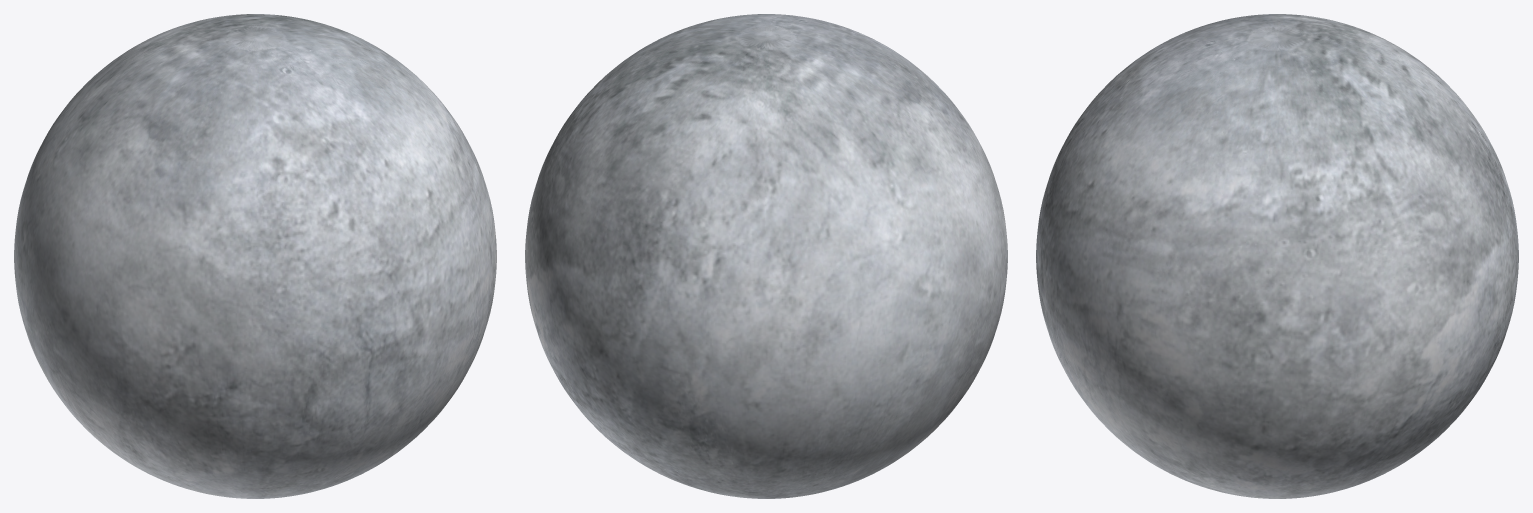
The model's file is eris.glb.
3 views of the same model, side by side, from view 1: azimuth 30°, elevation 25°; view 2: azimuth 150°, elevation 25°; view 3: azimuth 270°, elevation 25° (orthographic).
Visible parts, largest first — view 1: Sphere_0; view 2: Sphere_0; view 3: Sphere_0.
Part boxes in pixels (left/top/right/bottom): Sphere_0: left=14, top=14, right=496, bottom=498; Sphere_0: left=525, top=14, right=1007, bottom=498; Sphere_0: left=1036, top=14, right=1518, bottom=498.
Size of the model in its own units: 1.99 by 2 by 1.99.
1 material, 1 textured.
